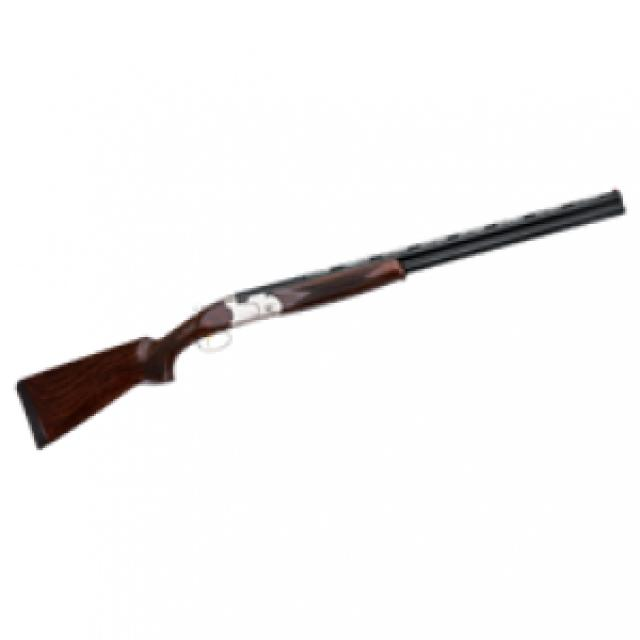rifle: (11, 180, 637, 456)
